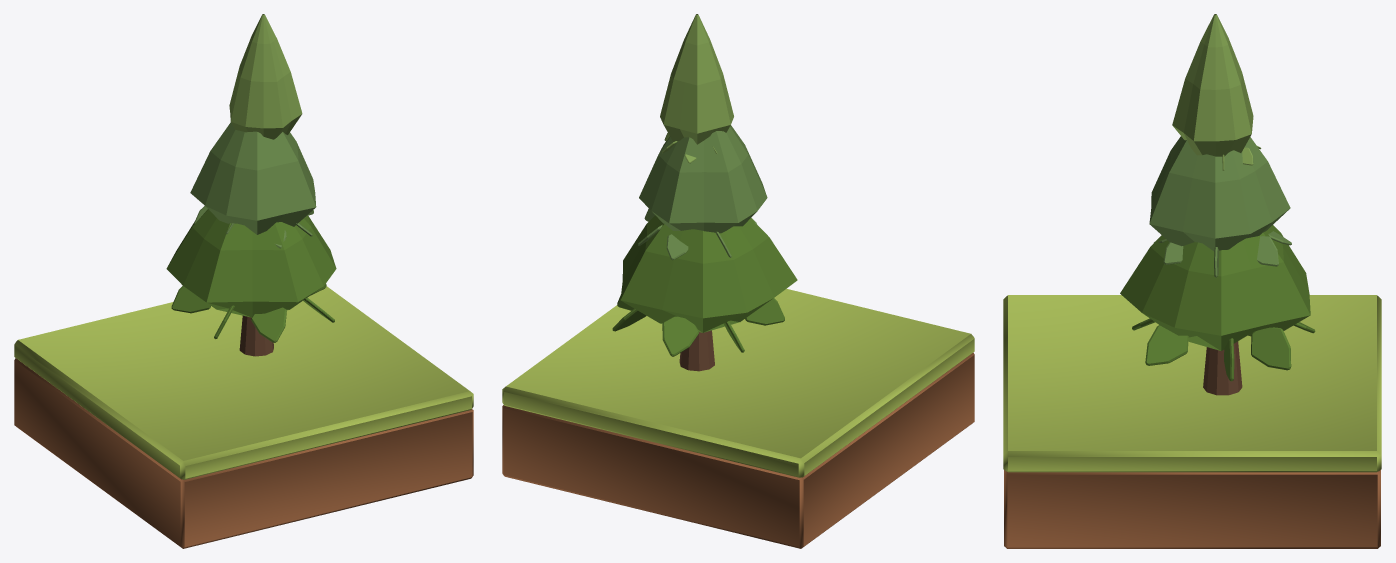
Rendered from tile_grove_mossy.glb.
The picture shows the model from 3 angles, left to right: view 1: azimuth 30°, elevation 25°; view 2: azimuth 150°, elevation 25°; view 3: azimuth 270°, elevation 25°; orthographic projection. The views are drawn at different scales.
Visible parts, largest first — view 1: tile_grove_mossy_cap, tile_grove_mossy_body, gms_tier0, gms_tier1, gms_tier2, gms_trunk, gms_tier0_leaf5, gms_tier0_leaf3; view 2: tile_grove_mossy_cap, tile_grove_mossy_body, gms_tier0, gms_tier1, gms_tier2, gms_tier0_leaf2, gms_trunk, gms_tier0_leaf4; view 3: tile_grove_mossy_cap, tile_grove_mossy_body, gms_tier0, gms_tier1, gms_tier2, gms_trunk, gms_tier0_leaf1, gms_tier0_leaf6, gms_tier1_leaf1.
Part boxes in pixels (x1=…): tile_grove_mossy_cap: x1=14, y1=286, x2=473, y2=479; tile_grove_mossy_body: x1=14, y1=358, x2=473, y2=548; gms_tier0: x1=166, y1=209, x2=336, y2=317; gms_tier1: x1=190, y1=122, x2=316, y2=234; gms_tier2: x1=229, y1=14, x2=302, y2=139; gms_trunk: x1=239, y1=315, x2=273, y2=356; gms_tier0_leaf5: x1=251, y1=307, x2=286, y2=342; gms_tier0_leaf3: x1=171, y1=286, x2=210, y2=313; tile_grove_mossy_cap: x1=502, y1=288, x2=974, y2=477; tile_grove_mossy_body: x1=502, y1=352, x2=974, y2=548; gms_tier0: x1=620, y1=215, x2=797, y2=332; gms_tier1: x1=639, y1=125, x2=767, y2=233; gms_tier2: x1=660, y1=14, x2=733, y2=144; gms_tier0_leaf2: x1=662, y1=316, x2=698, y2=356; gms_trunk: x1=679, y1=330, x2=714, y2=371; gms_tier0_leaf4: x1=745, y1=298, x2=784, y2=325; tile_grove_mossy_cap: x1=1003, y1=295, x2=1381, y2=472; tile_grove_mossy_body: x1=1004, y1=470, x2=1380, y2=548; gms_tier0: x1=1120, y1=225, x2=1310, y2=350; gms_tier1: x1=1149, y1=136, x2=1290, y2=251; gms_tier2: x1=1172, y1=14, x2=1253, y2=156; gms_trunk: x1=1203, y1=341, x2=1242, y2=395; gms_tier0_leaf1: x1=1251, y1=327, x2=1291, y2=370; gms_tier0_leaf6: x1=1145, y1=325, x2=1188, y2=365; gms_tier1_leaf1: x1=1257, y1=236, x2=1278, y2=266.
Bounding box in the file's own units: 2 × 2.76 × 2.
